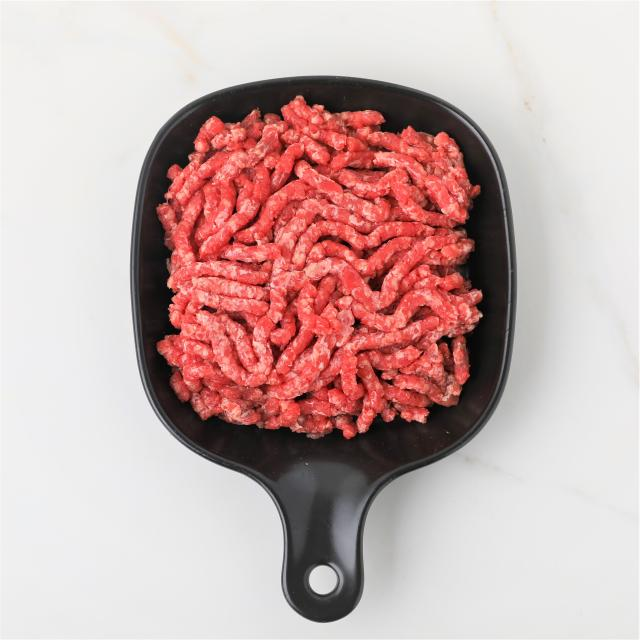beef: (205, 155, 428, 385)
